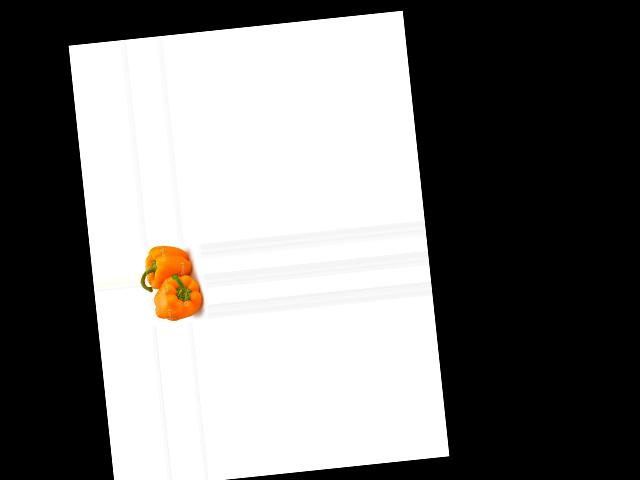bell_pepper: (139, 242, 194, 294)
